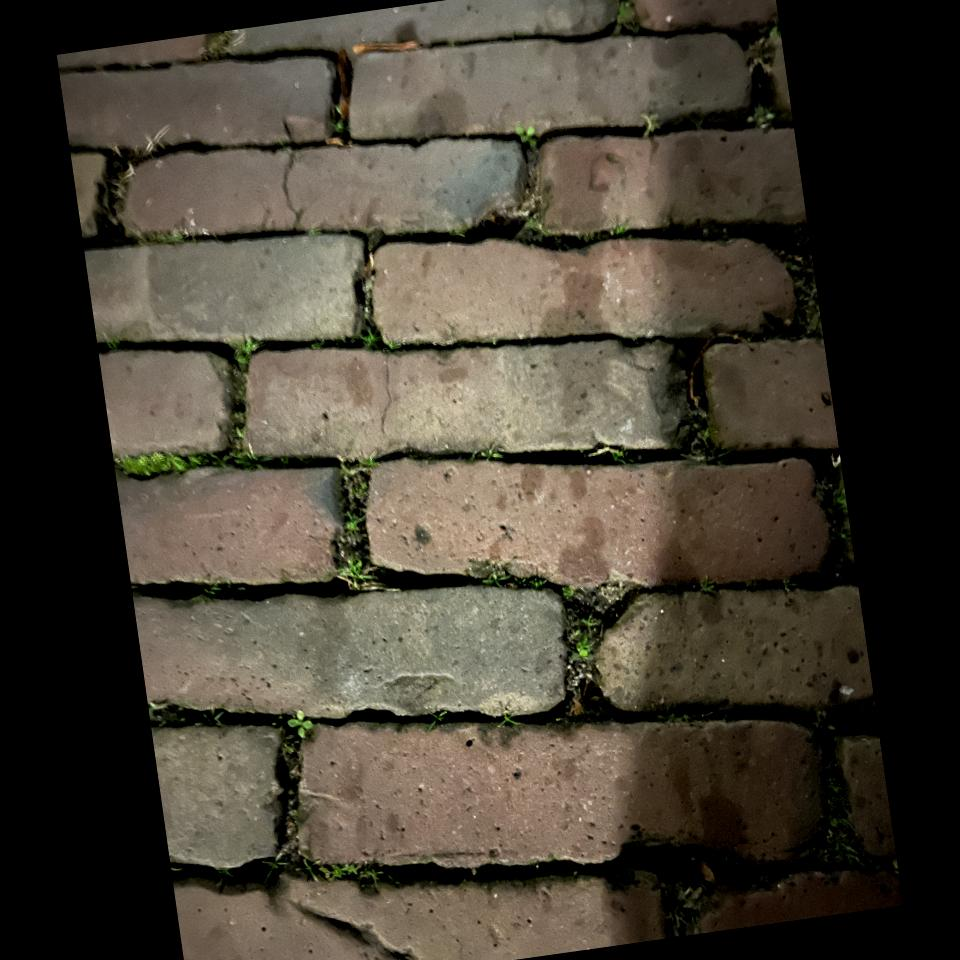weed: (555, 574, 617, 726)
